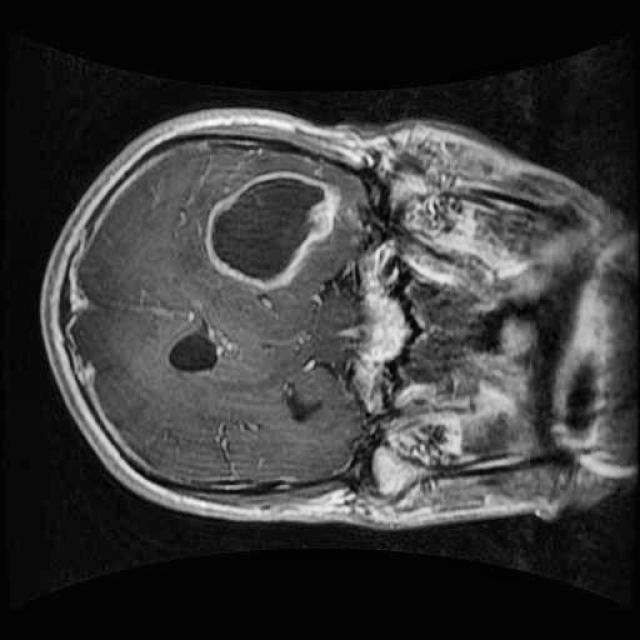Non-Tumor: (191, 155, 344, 300)
